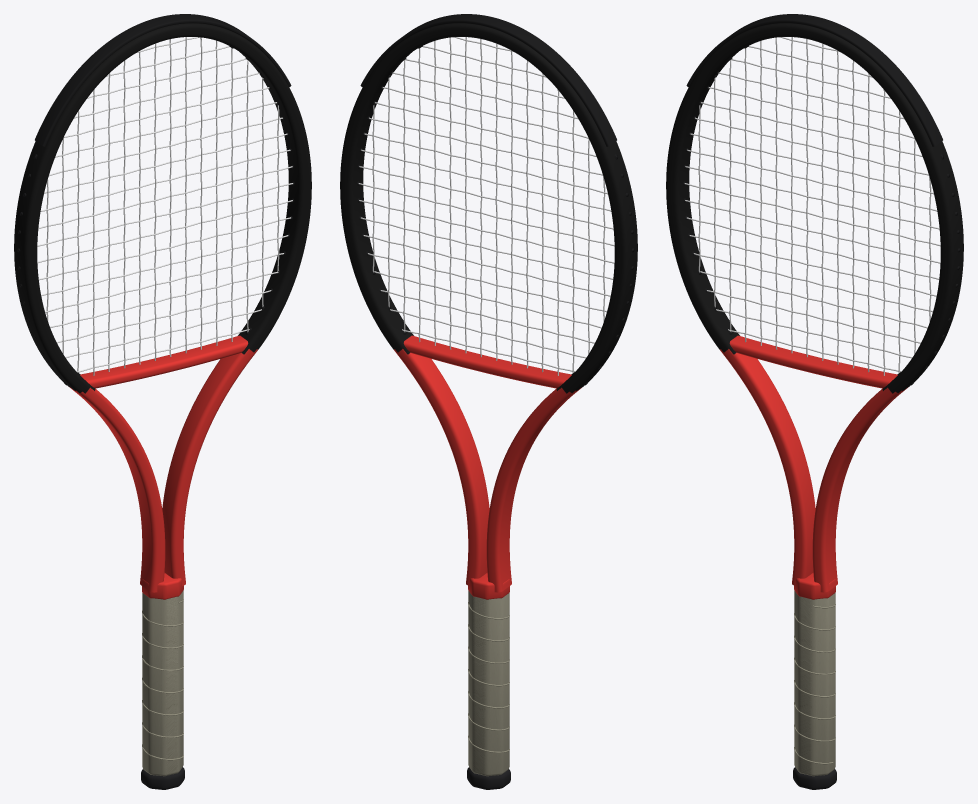
Rendered from tecnifibre-tf40-305-16x19-v3.glb.
3 renders of one model, left to right at view 1: azimuth 30°, elevation 25°; view 2: azimuth 150°, elevation 25°; view 3: azimuth 330°, elevation 25°, orthographic.
Visible parts, largest first — view 1: Frame, Strings, Handle, Bumper, Yoke, GripSeam, Collar, ButtCap; view 2: Frame, Strings, Handle, Bumper, Yoke, GripSeam, Collar, ButtCap; view 3: Frame, Strings, Handle, Bumper, Yoke, GripSeam, Collar, ButtCap.
Part boxes in pixels (x1=…): Frame: x1=14, y1=23, x2=311, y2=592; Strings: x1=37, y1=37, x2=293, y2=375; Handle: x1=142, y1=590, x2=183, y2=776; Bumper: x1=35, y1=14, x2=291, y2=146; Yoke: x1=80, y1=335, x2=248, y2=388; GripSeam: x1=142, y1=599, x2=183, y2=760; Collar: x1=142, y1=573, x2=183, y2=599; ButtCap: x1=141, y1=767, x2=184, y2=789; Frame: x1=340, y1=23, x2=637, y2=592; Strings: x1=358, y1=37, x2=614, y2=375; Handle: x1=468, y1=590, x2=509, y2=776; Bumper: x1=360, y1=14, x2=616, y2=146; Yoke: x1=403, y1=335, x2=571, y2=388; GripSeam: x1=468, y1=602, x2=509, y2=752; Collar: x1=468, y1=573, x2=509, y2=599; ButtCap: x1=467, y1=767, x2=510, y2=789; Frame: x1=666, y1=23, x2=963, y2=592; Strings: x1=684, y1=37, x2=940, y2=375; Handle: x1=794, y1=590, x2=835, y2=776; Bumper: x1=686, y1=14, x2=942, y2=146; Yoke: x1=729, y1=335, x2=897, y2=388; GripSeam: x1=794, y1=604, x2=835, y2=764; Collar: x1=794, y1=573, x2=835, y2=599; ButtCap: x1=793, y1=767, x2=836, y2=789.
Size of the model in its own units: 0.2733 by 0.6886 by 0.0327.
6 materials, 1 textured.
